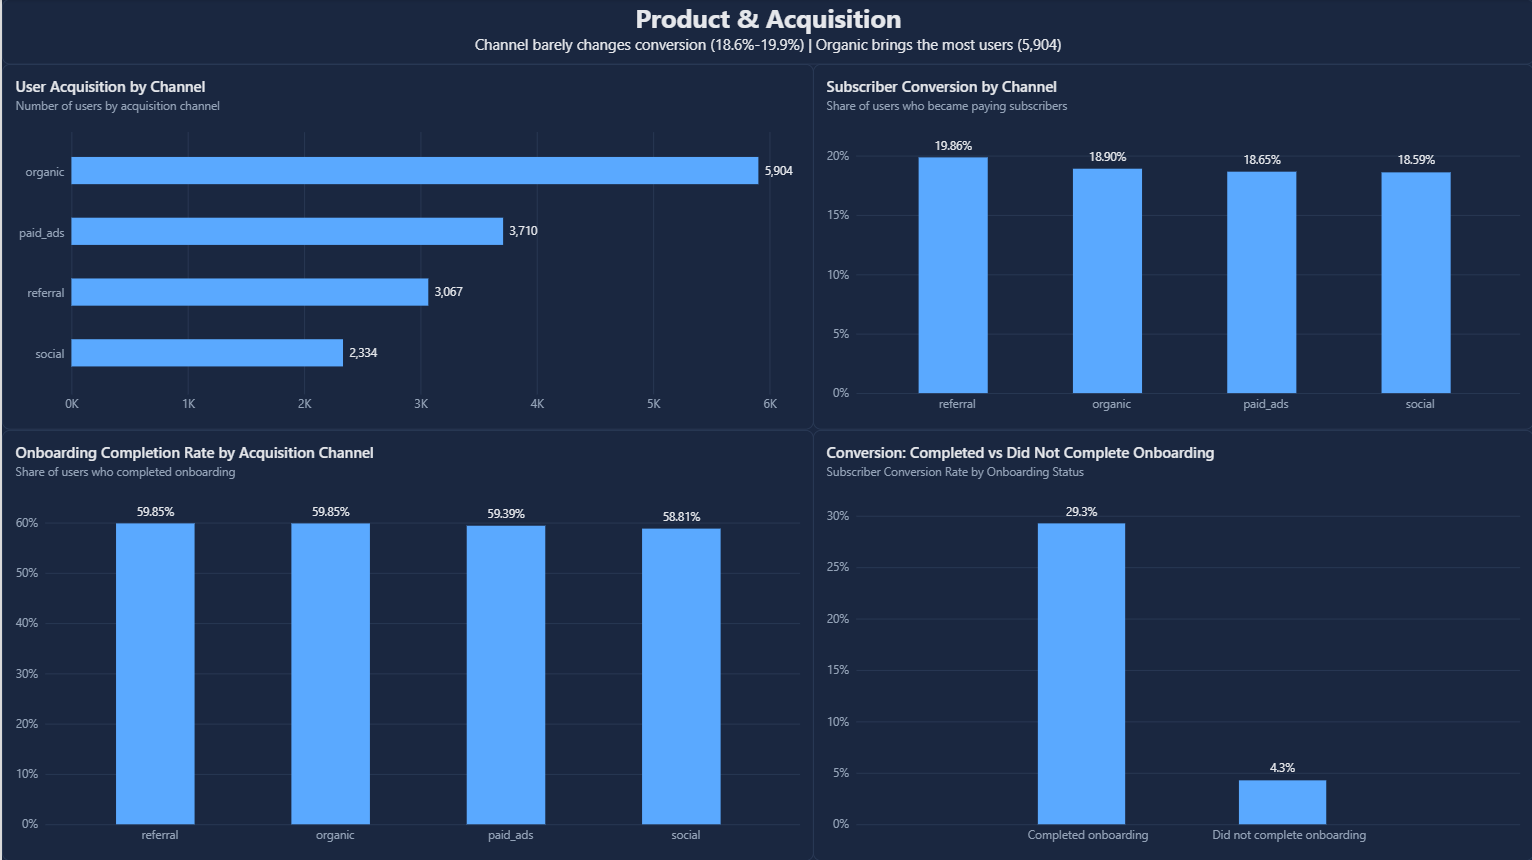

This screenshot's page, from the dashboard's own definition file:
{"tool":"powerbi","page":{"name":"Product & Acquisition","canvas":[1920,1080],"ordinal":2},"visuals":[{"type":"clusteredBarChart","title":"User Acquisition by Channel ","fields":{"Category":["users_clean.acquisition_channel"],"Y":["Count(users_clean.user_id)"]},"box":[0,81.7,1016.7,458.3],"z":0},{"type":"clusteredColumnChart","title":"Onboarding Completion Rate by Acquisition Channel","fields":{"Category":["users_clean.acquisition_channel"],"Y":["events_clean.Onboarding Completion by Channel"]},"box":[0,540,1016.7,540],"z":1000},{"type":"clusteredColumnChart","title":"Subscriber Conversion by Channel","fields":{"Category":["users_clean.acquisition_channel"],"Y":["subscriptions_clean.Subscriber Conversion by Channel"]},"box":[1016.7,81.7,903.3,458.3],"z":2000},{"type":"clusteredColumnChart","title":"Conversion: Completed vs Did Not Complete Onboarding","fields":{"Category":["users_clean.Onboarding Status"],"Y":["users_clean.Subscriber Conversion Rate"]},"box":[1016.7,540,903.3,540],"z":2001},{"type":"textbox","box":[0,0,1920,81.7],"z":2002}]}

Visuals, with their boxes in screenshot pixels (x1, y1, x2, y2), scaled from the page's 1920x1080 canvas onto the 1532x860 screenshot:
"User Acquisition by Channel " clusteredBarChart: l=0, t=65, r=811, b=430
"Onboarding Completion Rate by Acquisition Channel" clusteredColumnChart: l=0, t=430, r=811, b=859
"Subscriber Conversion by Channel" clusteredColumnChart: l=811, t=65, r=1531, b=430
"Conversion: Completed vs Did Not Complete Onboarding" clusteredColumnChart: l=811, t=430, r=1531, b=859
textbox: l=0, t=0, r=1531, b=65
